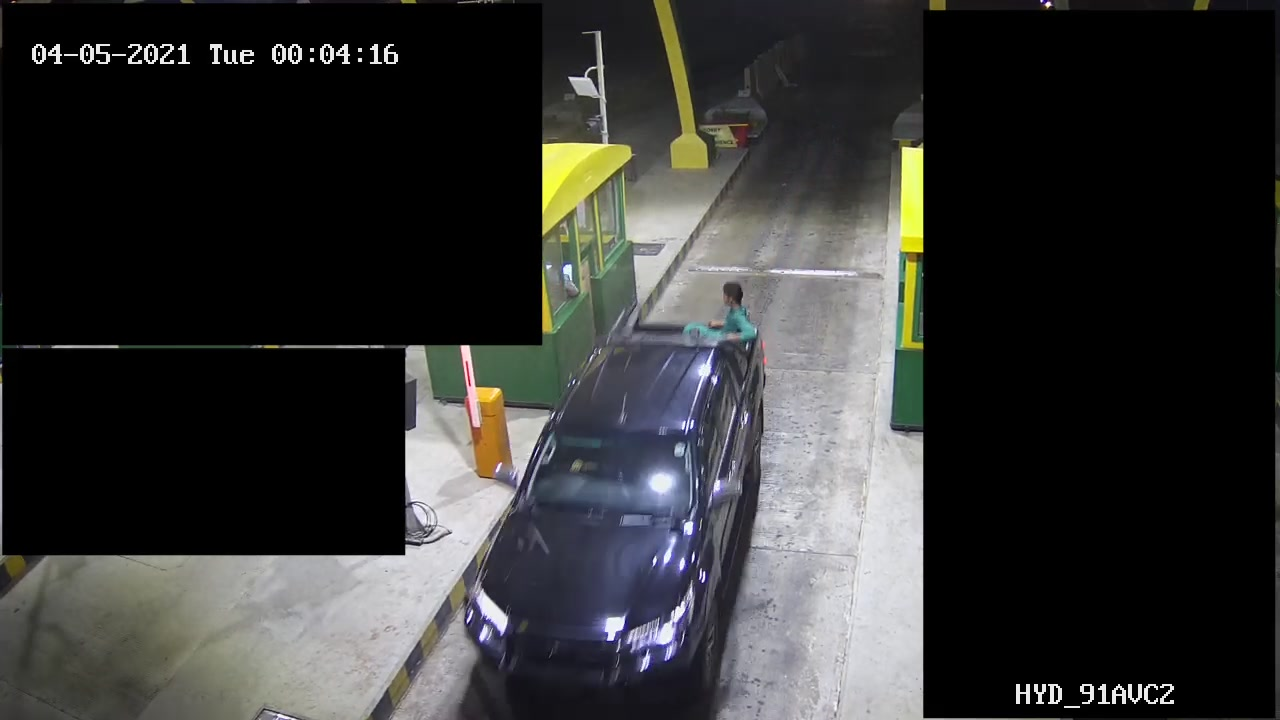F1: (456, 270, 791, 707)
